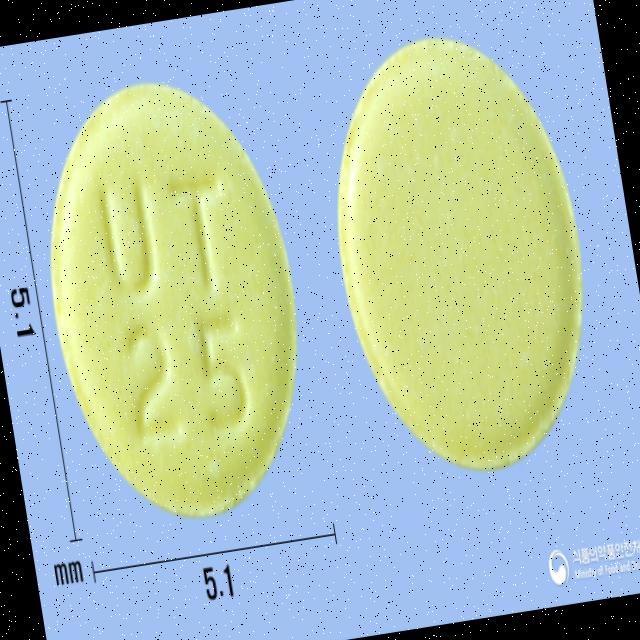Azaprine -25mg: (16, 59, 332, 542), (306, 16, 617, 497)
